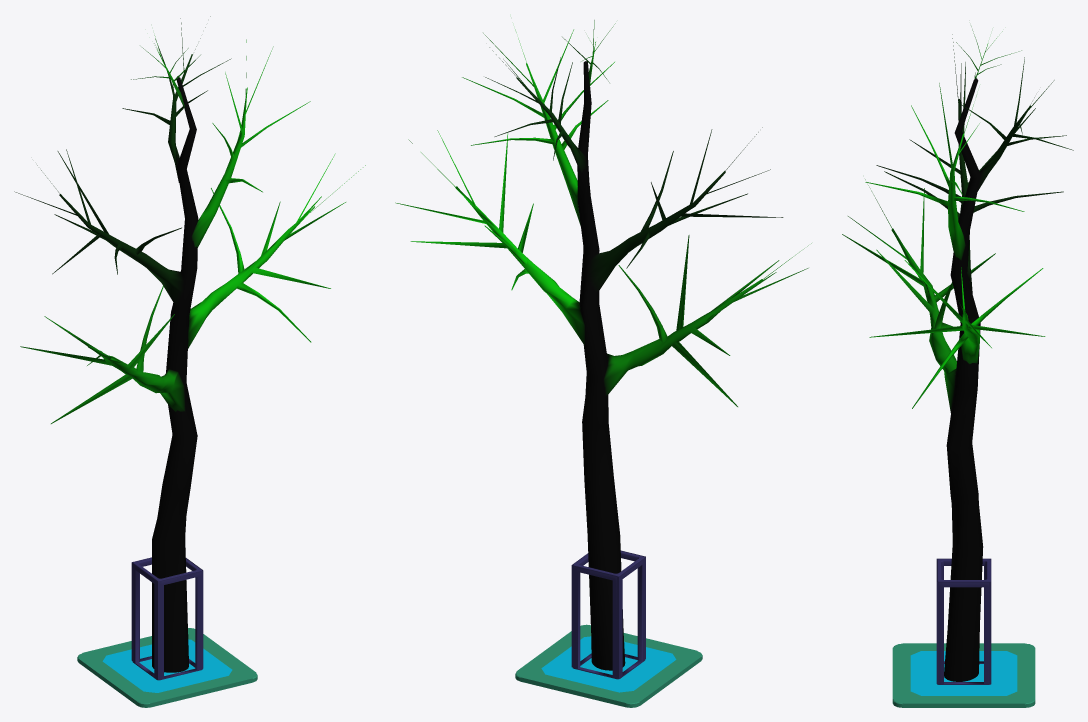
File: Tree.fbx
The picture shows the model from 3 angles, left to right: view 1: azimuth 30°, elevation 25°; view 2: azimuth 150°, elevation 25°; view 3: azimuth 270°, elevation 25°; orthographic projection. The views are drawn at different scales.
Parts seen in each view (by area): view 1: tree, base (×2), cage (×2); view 2: tree, base (×2), cage (×2); view 3: tree, base (×2), cage (×2).
Boxes of the visible parts, bbox=[...] form: tree: bbox=[14, 16, 365, 672]; base (×2): bbox=[77, 628, 257, 707]; cage (×2): bbox=[131, 557, 203, 680]; tree: bbox=[395, 20, 811, 670]; base (×2): bbox=[515, 624, 702, 707]; cage (×2): bbox=[571, 550, 645, 679]; tree: bbox=[842, 26, 1073, 681]; base (×2): bbox=[892, 643, 1035, 707]; cage (×2): bbox=[936, 558, 991, 684].
Size of the model in its own units: 4.62 by 8.02 by 2.55.
